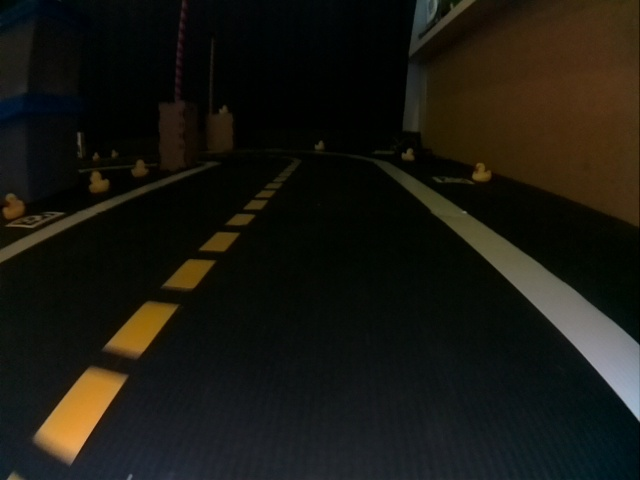Duckie: (473, 163, 492, 183), (89, 172, 107, 193), (131, 160, 145, 174), (402, 149, 413, 160)
